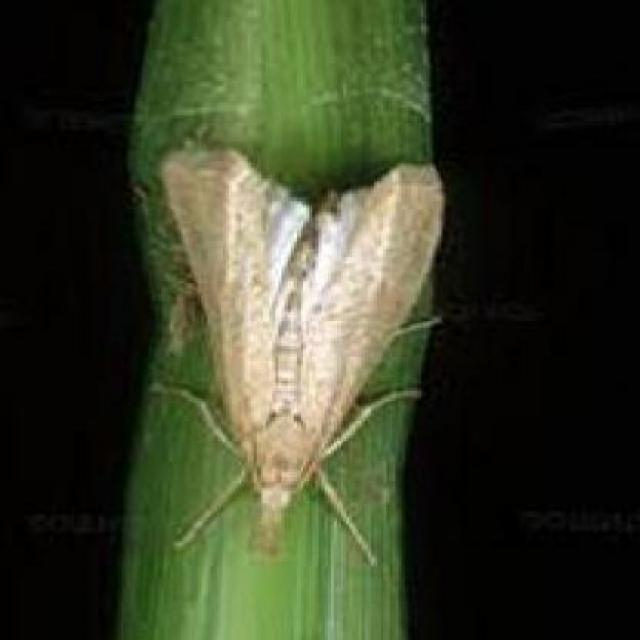stem-borer: (157, 146, 395, 560)
